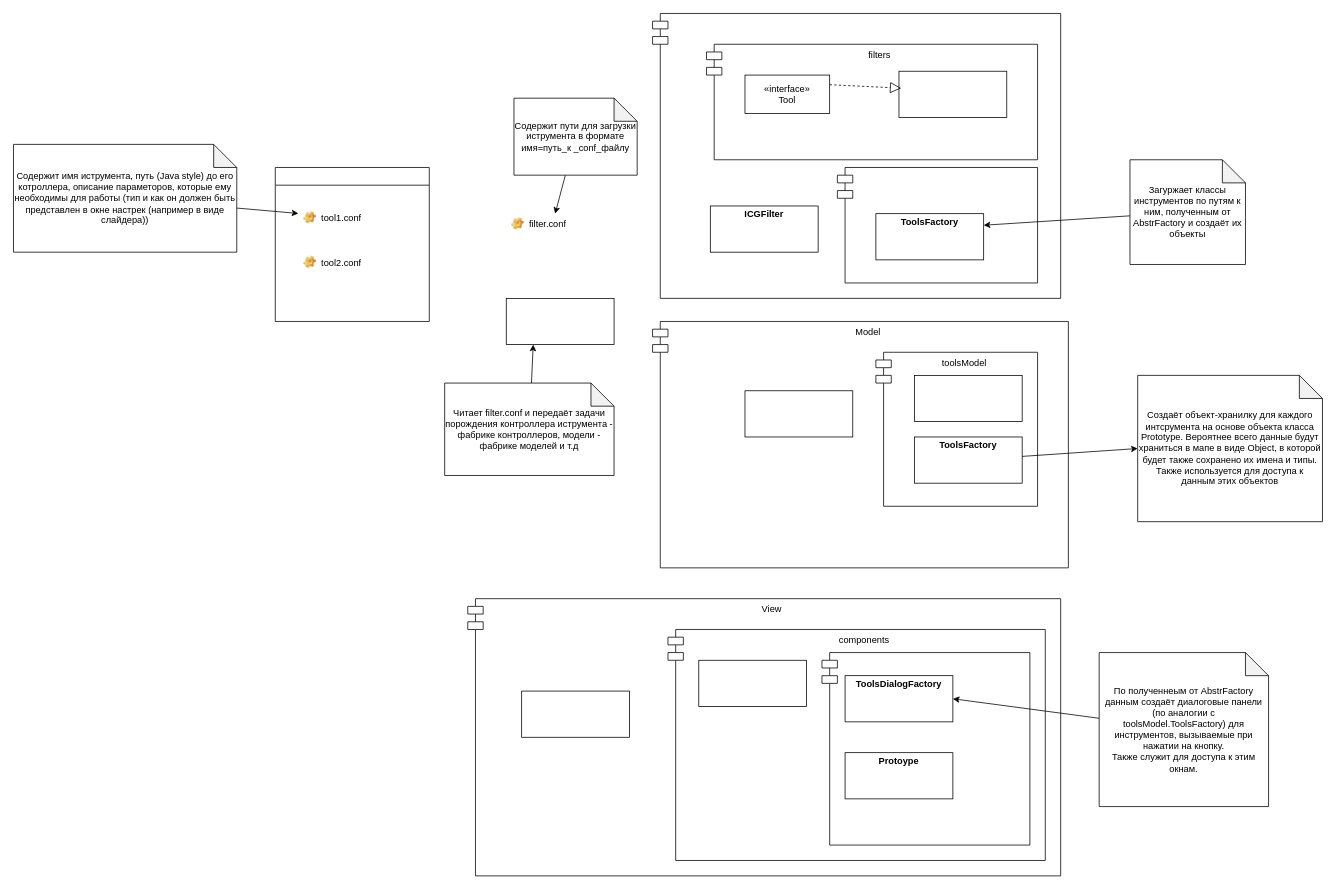
This 1336x889 diagram has some shape labels left out. Each missing label, with the box of its shape:
AbstrFactory: (506, 298, 614, 345)
autogenToolsDialog: (821, 652, 1030, 845)
ConcretTool: (898, 70, 1007, 117)
Controller: (652, 13, 1061, 298)
FilterPanel: (698, 660, 807, 706)
ImageWorker: (744, 390, 853, 437)
MainFrame: (521, 690, 629, 737)
Prototype: (914, 375, 1022, 422)
Tools Parameters: (275, 167, 429, 321)
toolsWorker: (837, 167, 1038, 283)
